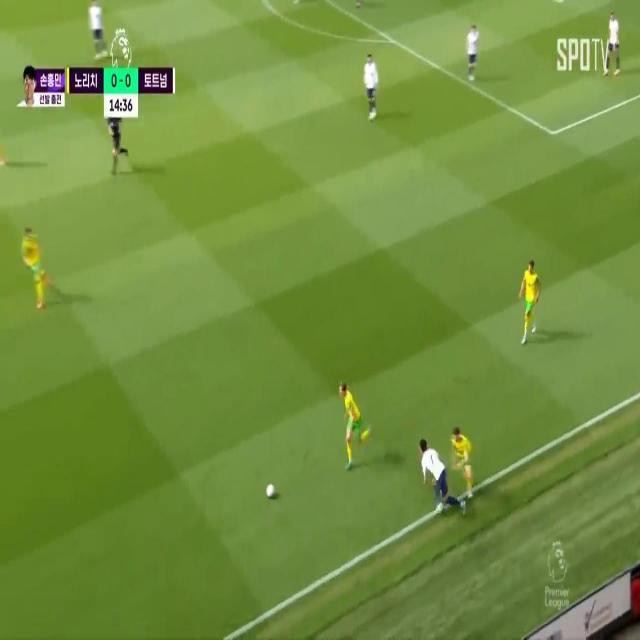ball: (264, 475, 279, 498)
player: (418, 442, 456, 515), (450, 426, 477, 502), (82, 1, 113, 67), (341, 381, 362, 469), (22, 225, 44, 298), (362, 51, 382, 121), (604, 11, 622, 81), (526, 261, 539, 338), (465, 19, 478, 86)
referee: (104, 88, 127, 164)
